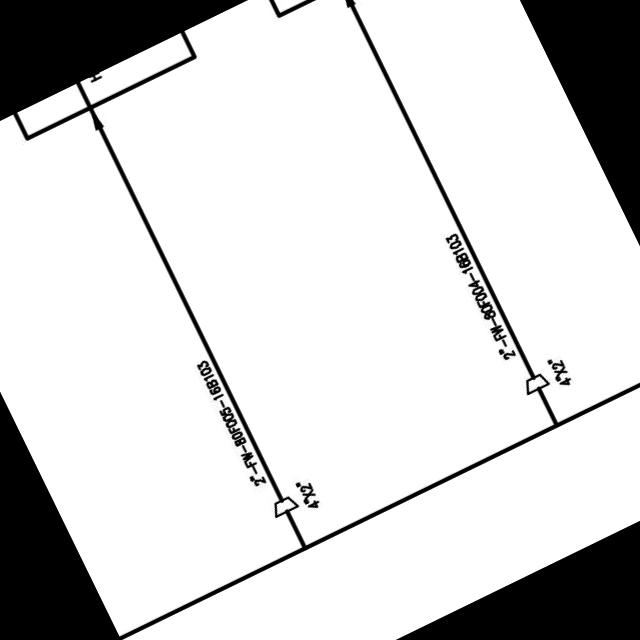SP: (516, 368, 552, 398), (266, 491, 300, 522)
